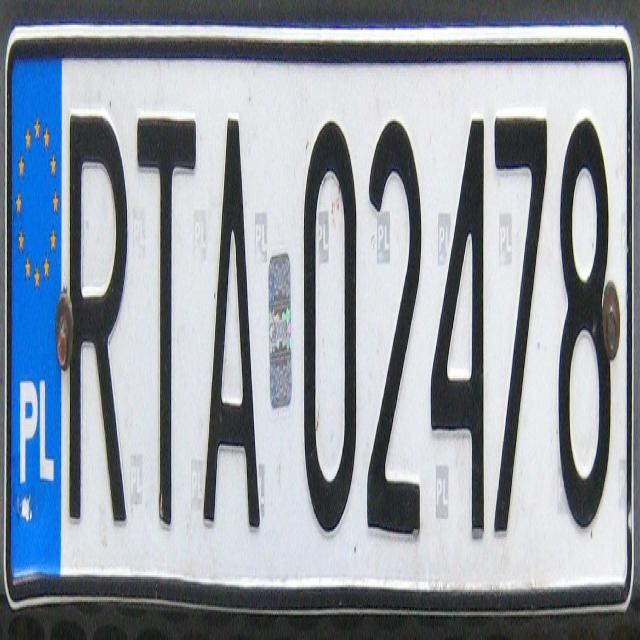pl_license_plate: (9, 48, 630, 594)
